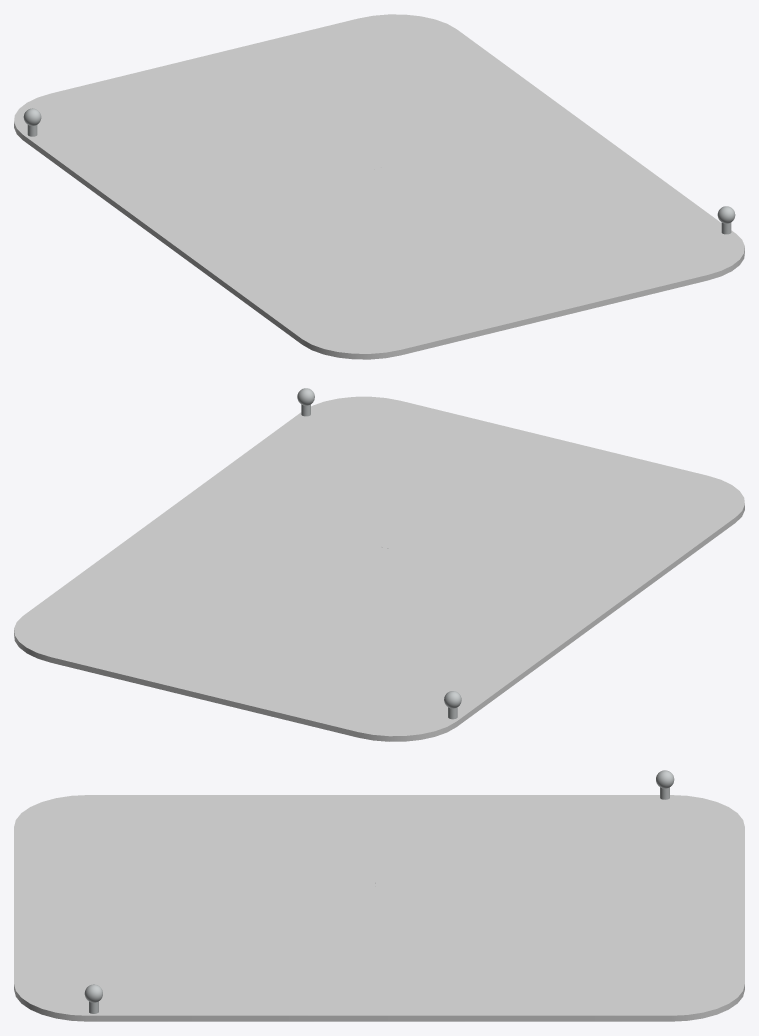
Rendered from 360-seperator(1).glb.
The picture shows the model from 3 angles, top to bottom: view 1: azimuth 30°, elevation 25°; view 2: azimuth 150°, elevation 25°; view 3: azimuth 270°, elevation 25°; orthographic projection. The views are drawn at different scales.
Visible parts, largest first — view 1: Plane.013; view 2: Plane.013; view 3: Plane.013, Sphere.
Boxes of the visible parts, box(x1,y1,x2,y2) form: Plane.013: box(14, 14, 744, 359); Plane.013: box(14, 396, 744, 741); Plane.013: box(14, 795, 744, 1021); Sphere: box(84, 770, 674, 1002).
Bounding box in the file's own units: 4.45 × 0.3093 × 6.2.
3 materials, 1 textured.
